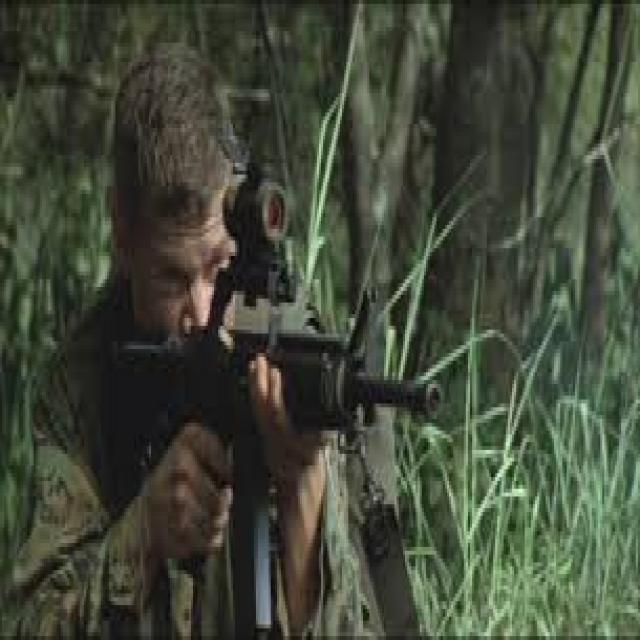weapon: (102, 165, 442, 640)
